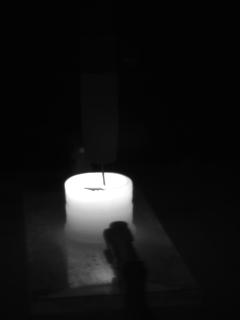tip_wire_left: (86, 158, 106, 189)
tip_wire_right: (103, 158, 117, 189)
